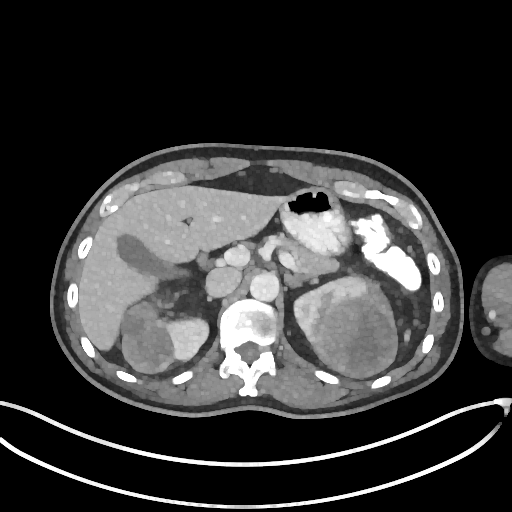Lesion: (118, 306, 176, 375)
